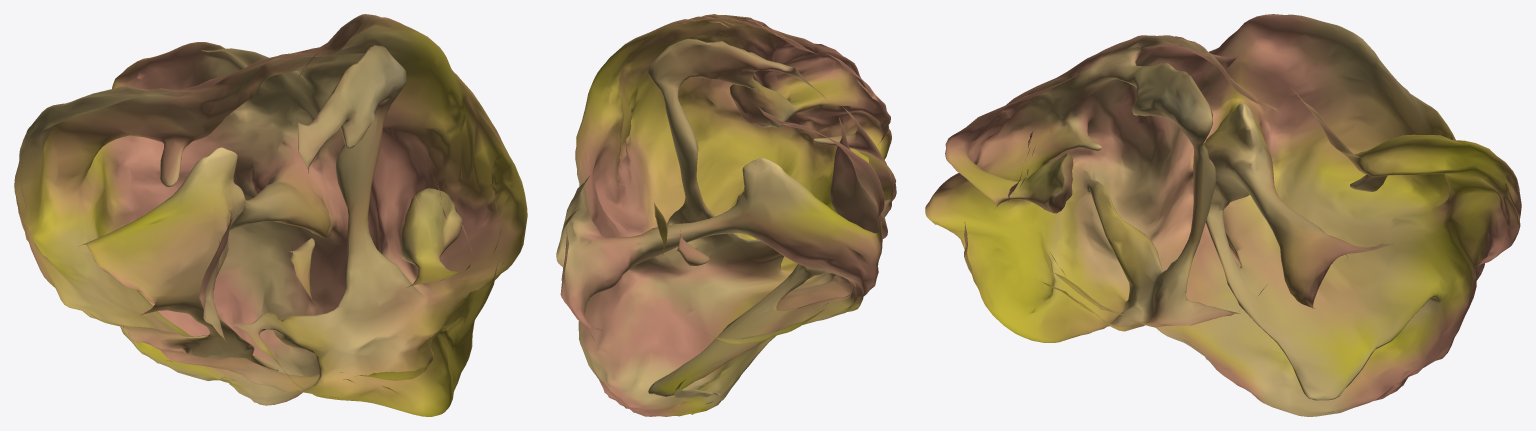
File: Cloud2_LOD1.glb
3 views of the same model, side by side, from view 1: azimuth 30°, elevation 25°; view 2: azimuth 150°, elevation 25°; view 3: azimuth 270°, elevation 25° (orthographic). The views are drawn at different scales.
Parts seen in each view (by area): view 1: Cloud2_LOD1; view 2: Cloud2_LOD1; view 3: Cloud2_LOD1.
Boxes of the visible parts, box(x1,y1,x2,y2) form: Cloud2_LOD1: box(14, 14, 527, 416); Cloud2_LOD1: box(556, 14, 896, 416); Cloud2_LOD1: box(925, 14, 1521, 416).
Bounding box in the file's own units: 0.7005 × 0.697 × 0.9981.
